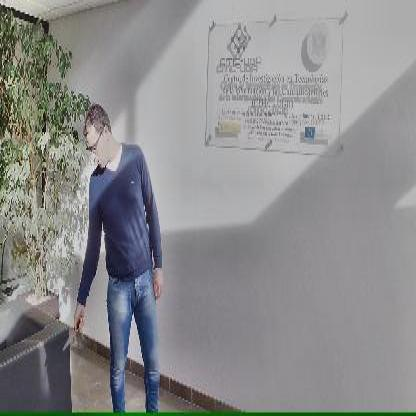knife: (60, 308, 84, 349)
